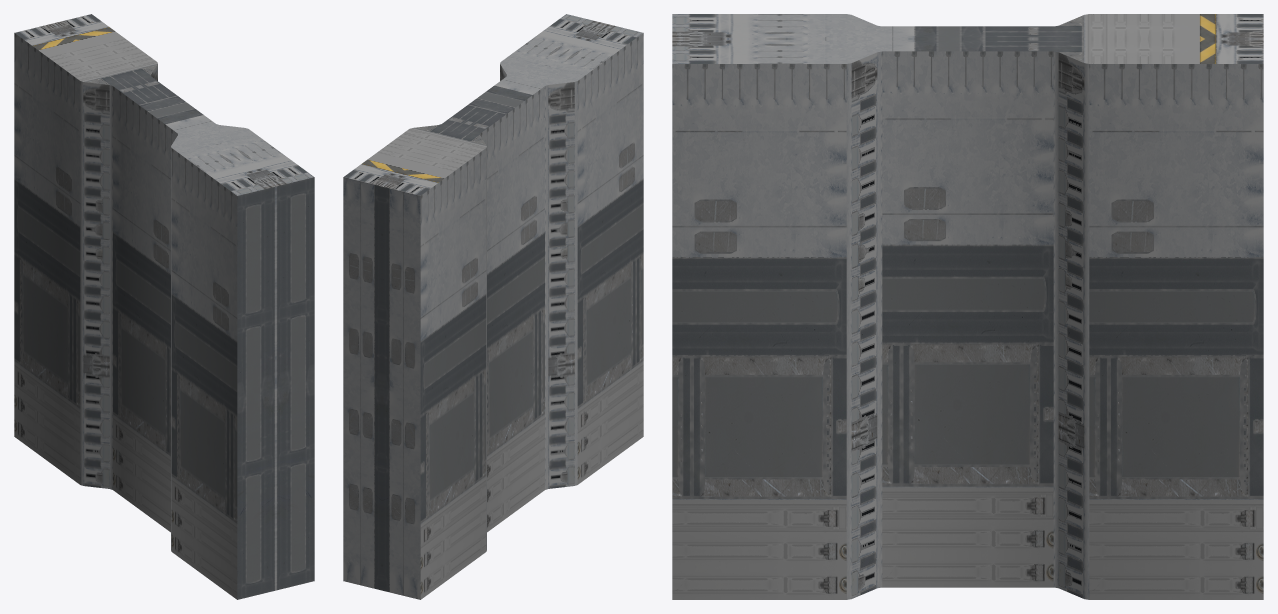
The model's file is SM_WallS013b4.fbx.
The picture shows the model from 3 angles, left to right: view 1: azimuth 30°, elevation 25°; view 2: azimuth 150°, elevation 25°; view 3: azimuth 270°, elevation 25°; orthographic projection. The views are drawn at different scales.
Visible parts, largest first — view 1: SM_WallS013b4_LOD0; view 2: SM_WallS013b4_LOD0; view 3: SM_WallS013b4_LOD0.
Boxes of the visible parts, x1,y1,x2,y2 form: SM_WallS013b4_LOD0: (14, 14, 314, 599); SM_WallS013b4_LOD0: (343, 14, 643, 599); SM_WallS013b4_LOD0: (672, 14, 1263, 599).
Size of the model in its own units: 80 by 400 by 400.
Materials: 1 (1 with a texture image).
